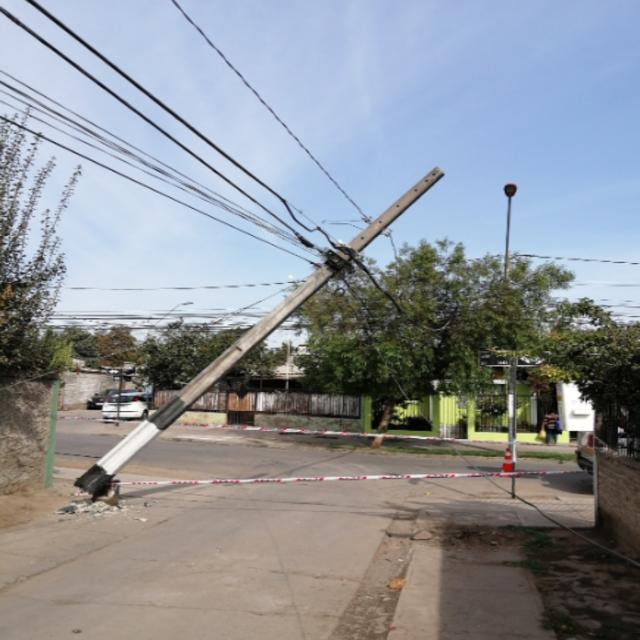Inclined Pole: (71, 168, 445, 500)
